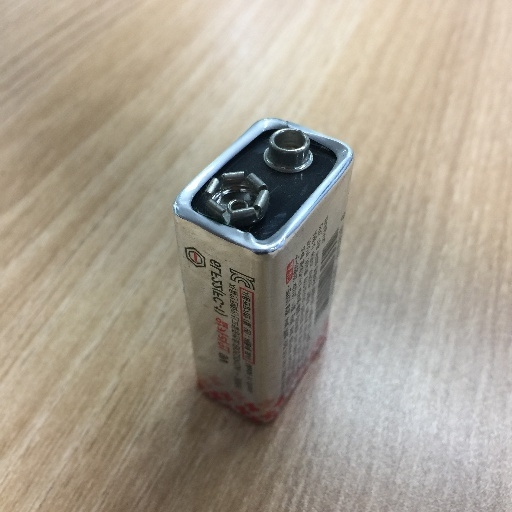Battery_3: (154, 97, 367, 442)
